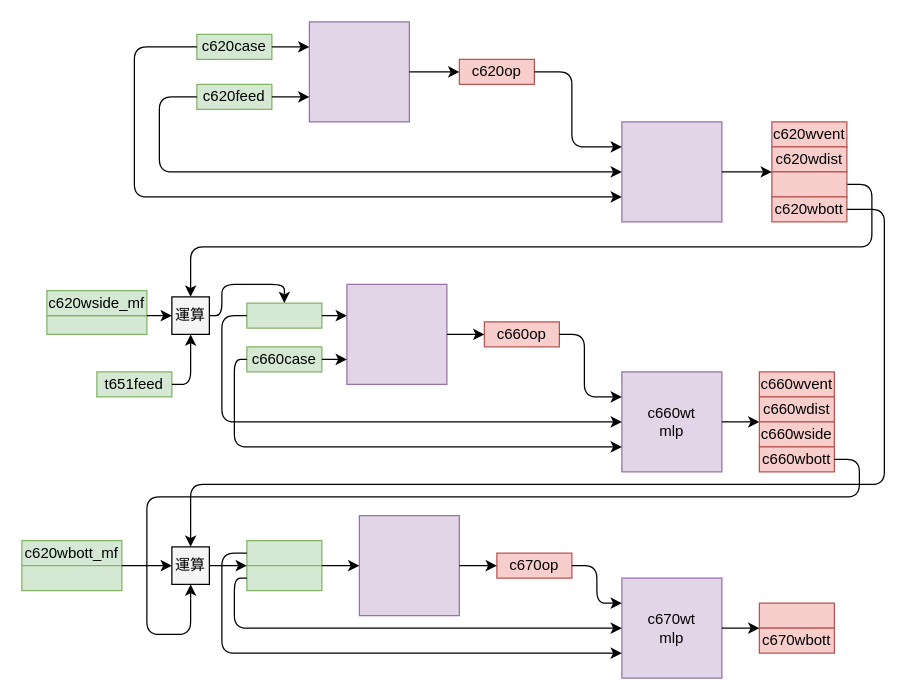
Some shapes in this 916 by 700 pixel diagram are drawn without their labels. The centre of each missing label's shape, as x and y in pixels:
"c620op mlp" goes at [358,71].
"c620wside" goes at [809,184].
"c620wt mlp" goes at [671,171].
"c660feed" goes at [284,315].
"c660op mlp" goes at [396,333].
"c660wbott_mf" goes at [71,577].
"c670feed" goes at [284,552].
"c670op mlp" goes at [408,565].
"c670upbf" goes at [284,577].
"c670wdist" goes at [796,615].
"t651mf" goes at [96,324].
